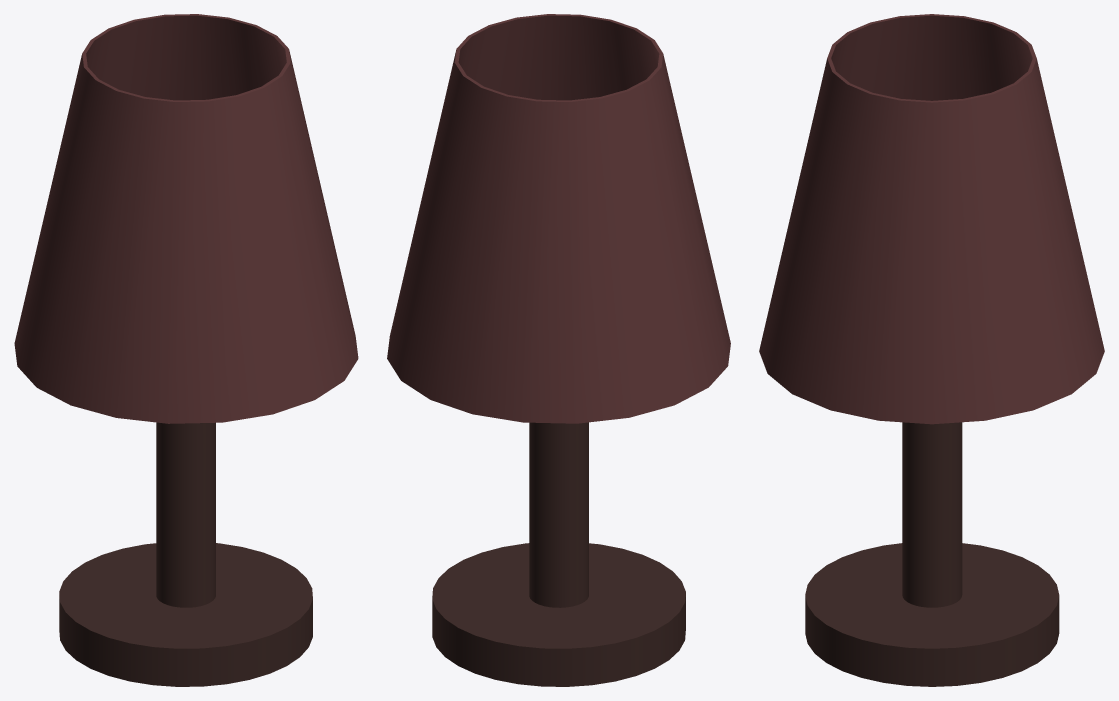
File: LampeChevet2_5.fbx
3 views of the same model, side by side, from view 1: azimuth 30°, elevation 25°; view 2: azimuth 150°, elevation 25°; view 3: azimuth 270°, elevation 25° (orthographic).
Visible parts, largest first — view 1: pPipe109, pCylinder763; view 2: pPipe109, pCylinder763; view 3: pPipe109, pCylinder763.
Boxes of the visible parts, bbox=[...] form: pPipe109: bbox=[14, 14, 358, 423]; pCylinder763: bbox=[59, 422, 312, 686]; pPipe109: bbox=[387, 14, 730, 423]; pCylinder763: bbox=[432, 422, 685, 686]; pPipe109: bbox=[759, 14, 1104, 424]; pCylinder763: bbox=[805, 422, 1059, 686].
Size of the model in its own units: 13.33 by 24.46 by 13.33.
